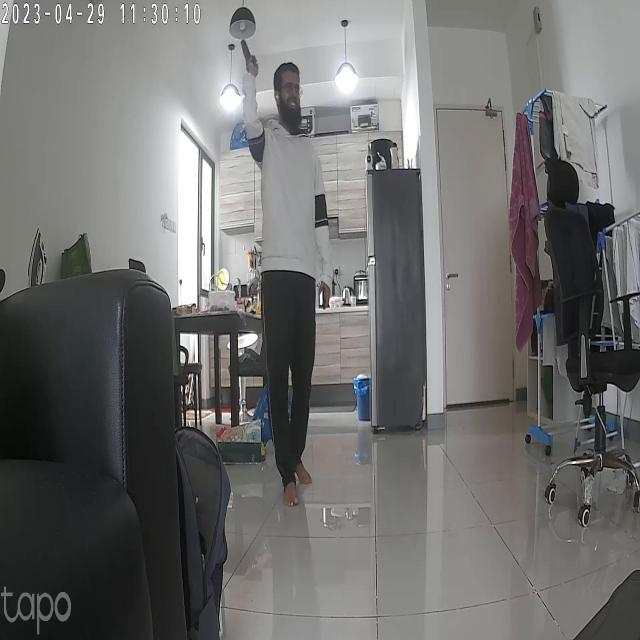Gun: (231, 37, 264, 84)
